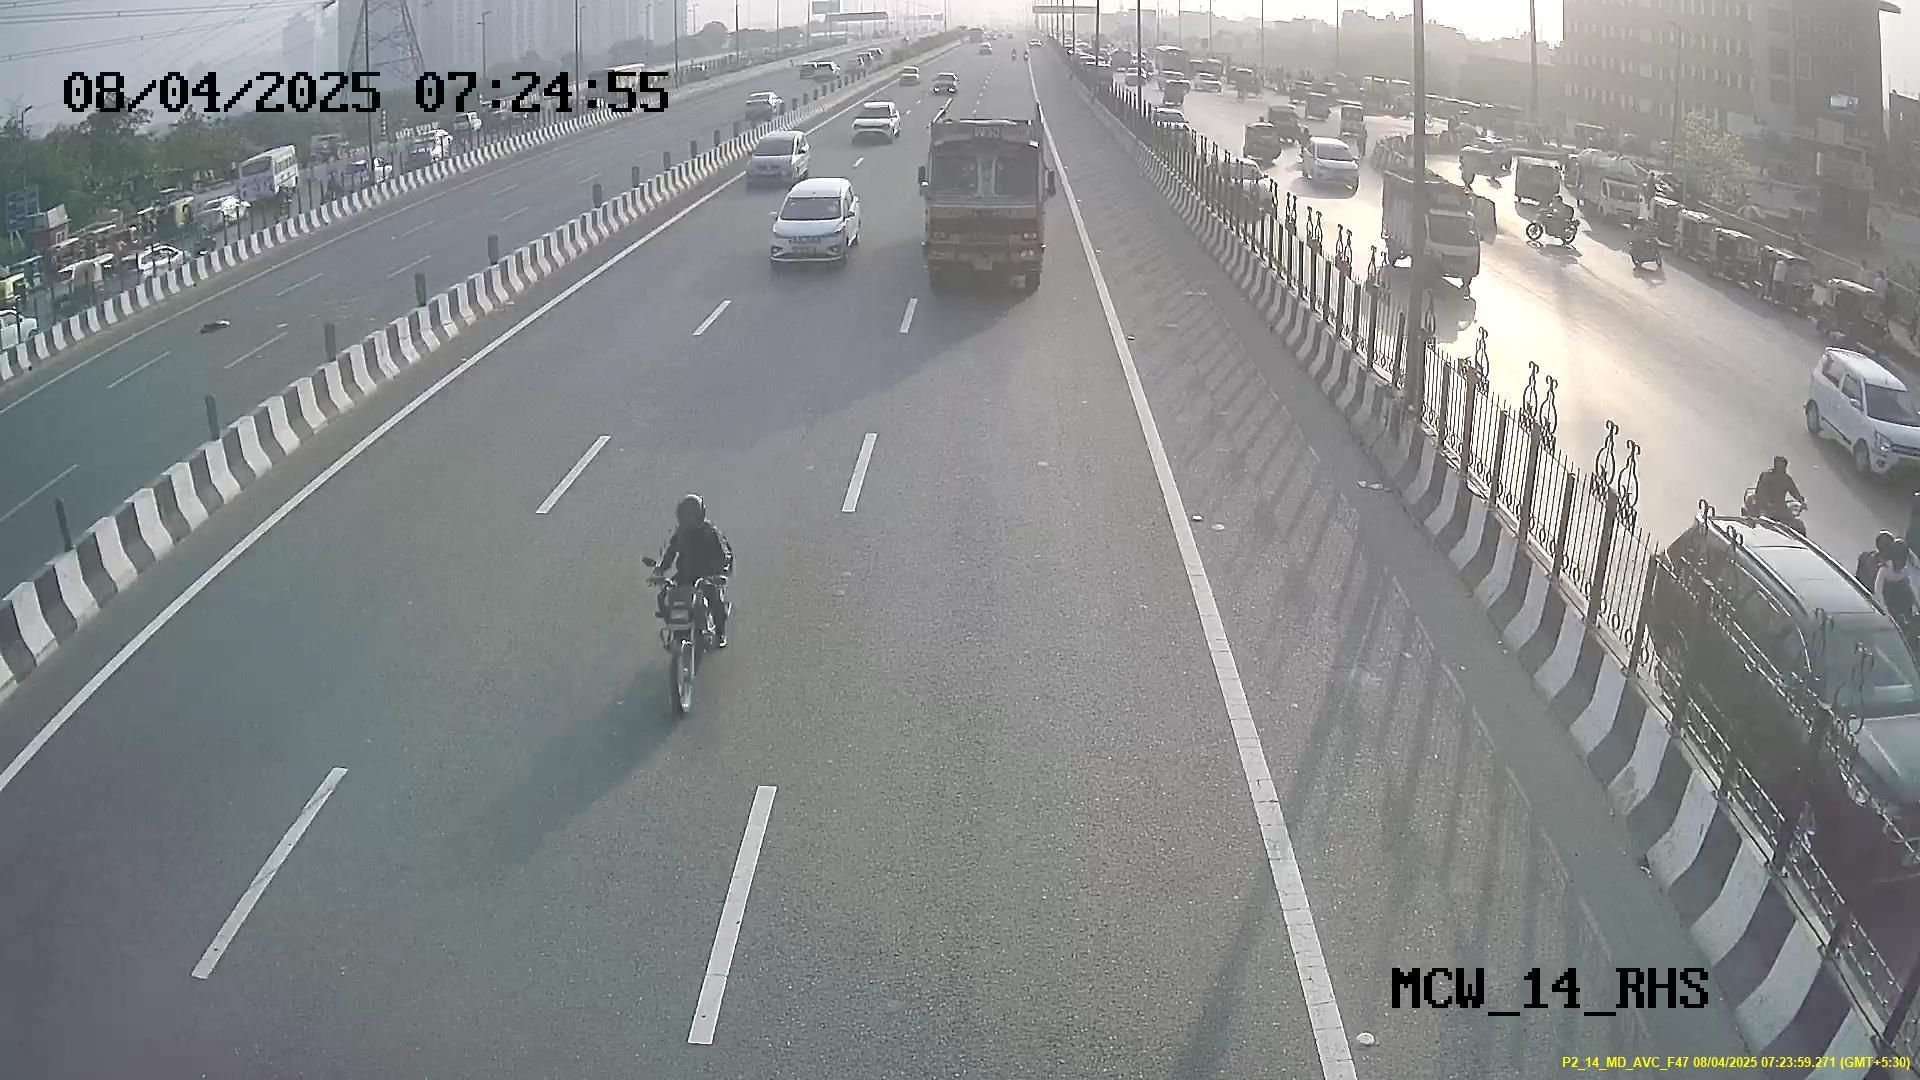bike: (630, 485, 740, 716)
car: (770, 178, 856, 269)
truck: (919, 116, 1047, 290)
